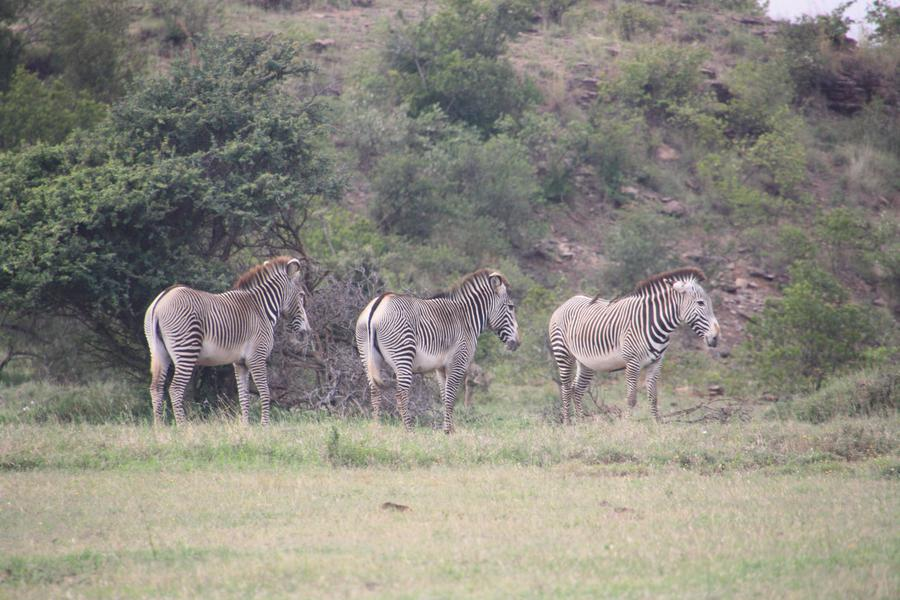zebra_grevys: (357, 288, 468, 367), (545, 288, 656, 366)
